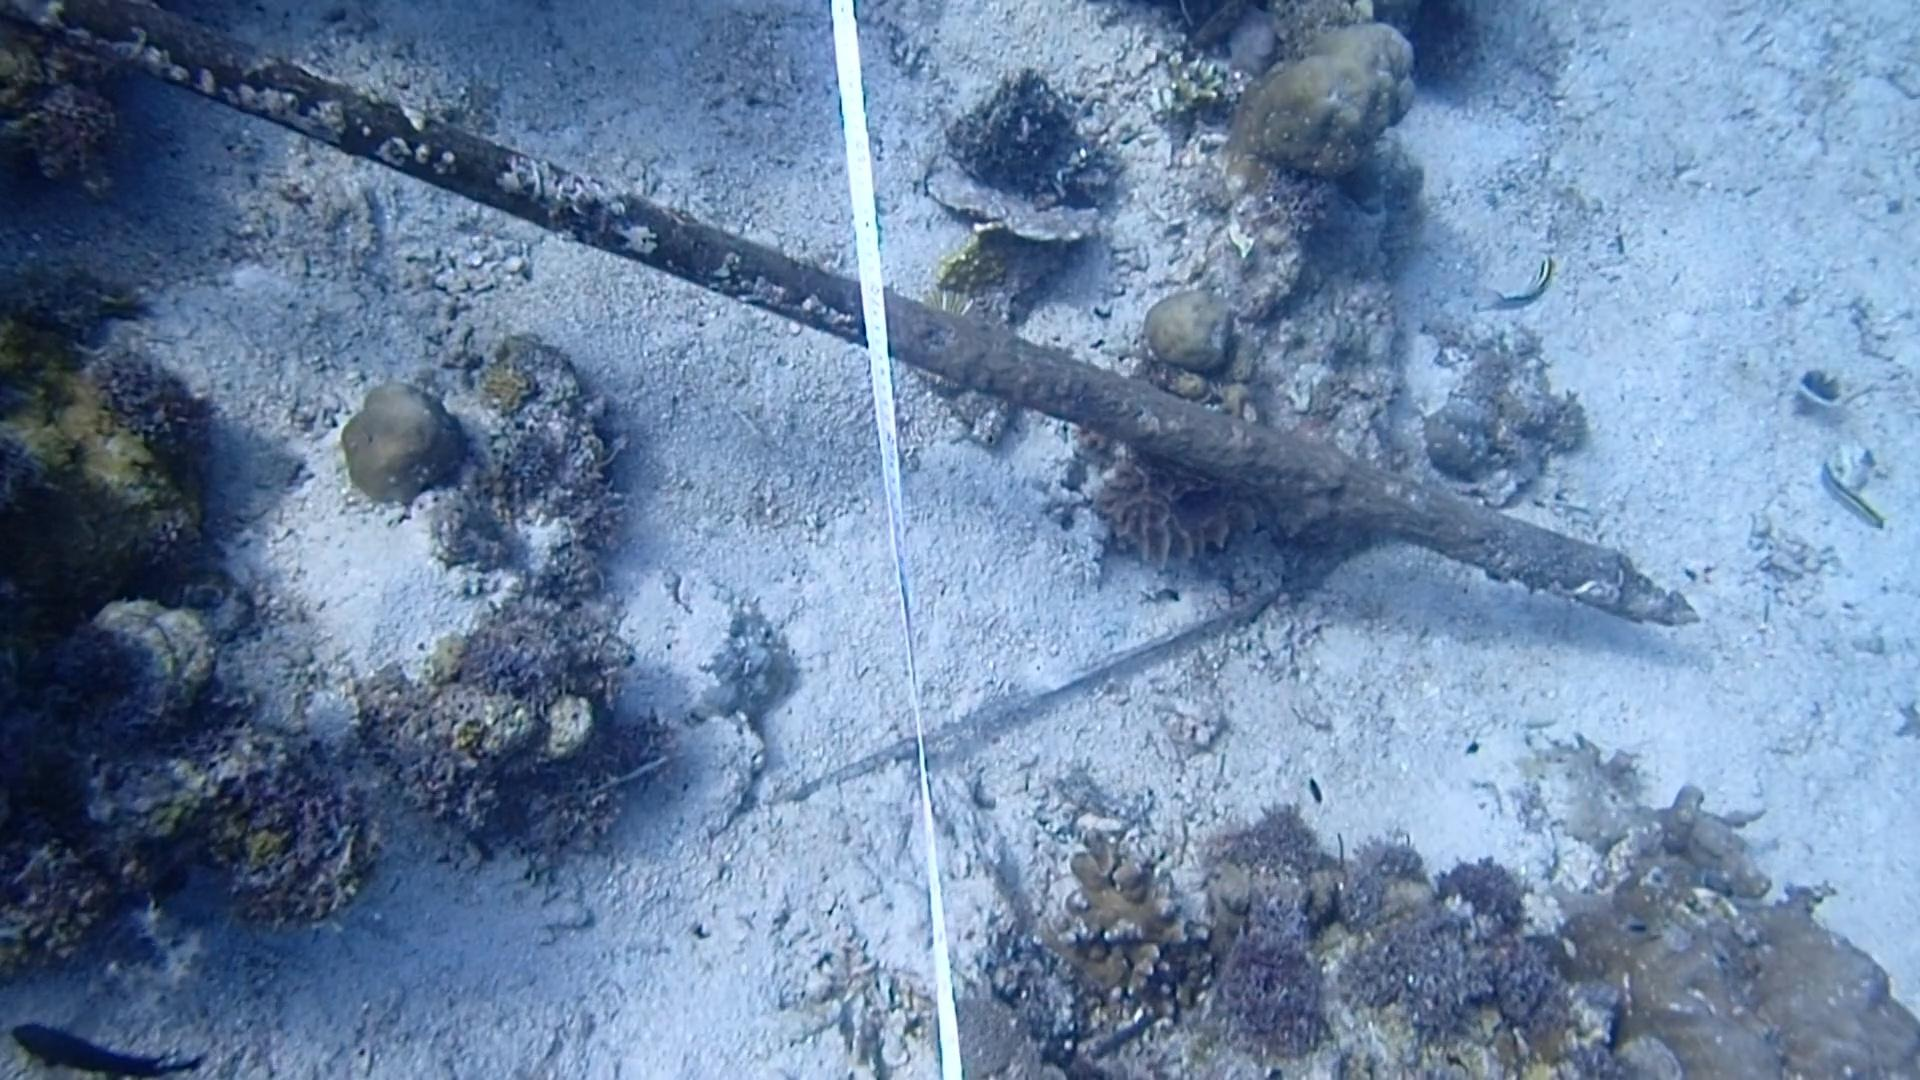Dark Fish: (9, 1014, 211, 1080)
Striped Fish: (1480, 241, 1575, 335), (1808, 452, 1890, 538)
